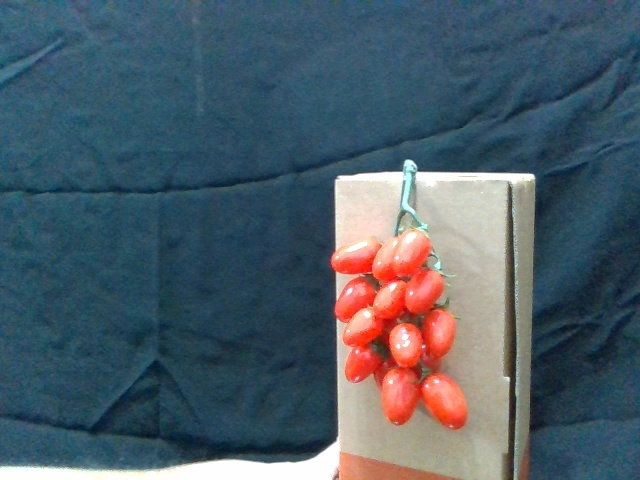tomato: (418, 372, 470, 433), (381, 367, 421, 428), (387, 320, 425, 374), (329, 239, 383, 275), (333, 278, 377, 321), (423, 308, 457, 362), (394, 230, 433, 275), (344, 308, 384, 350), (405, 269, 443, 313), (344, 346, 382, 383), (374, 281, 408, 322)
